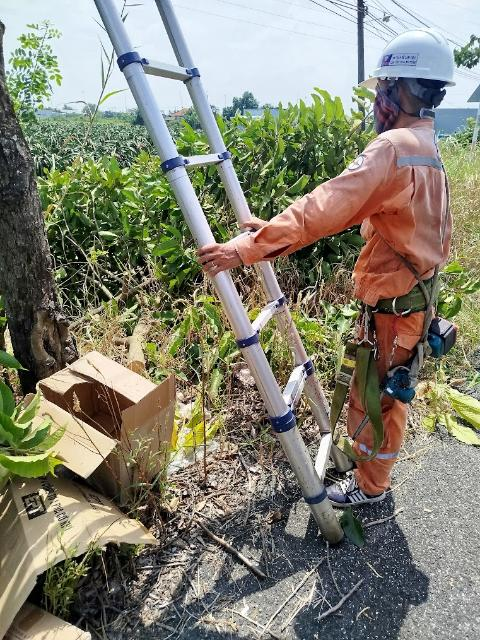harness: (351, 277, 467, 329)
helmet: (367, 26, 463, 109)
shoes: (315, 471, 391, 508)
